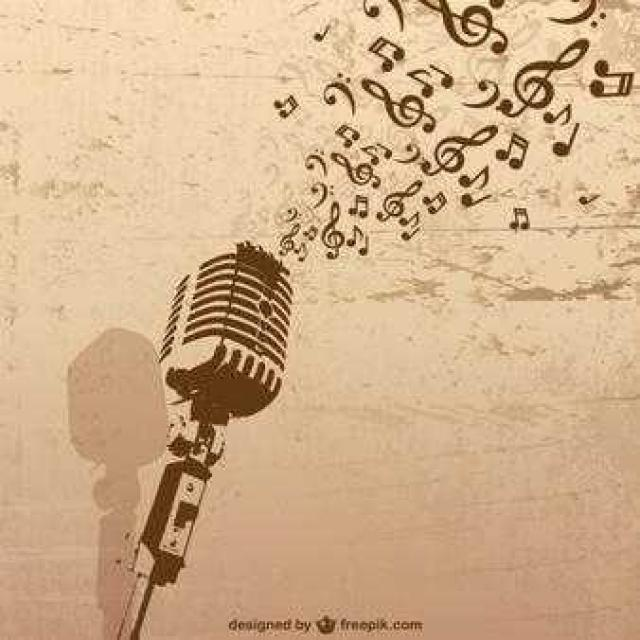microphone: (160, 239, 298, 455)
